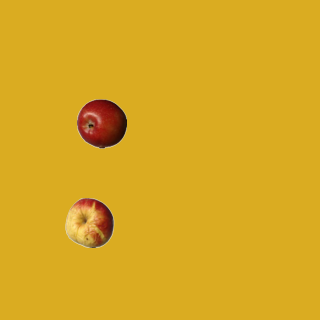Apple Braeburn: (76, 98, 126, 148)
Apple Red Yellow 1: (64, 197, 114, 247)
